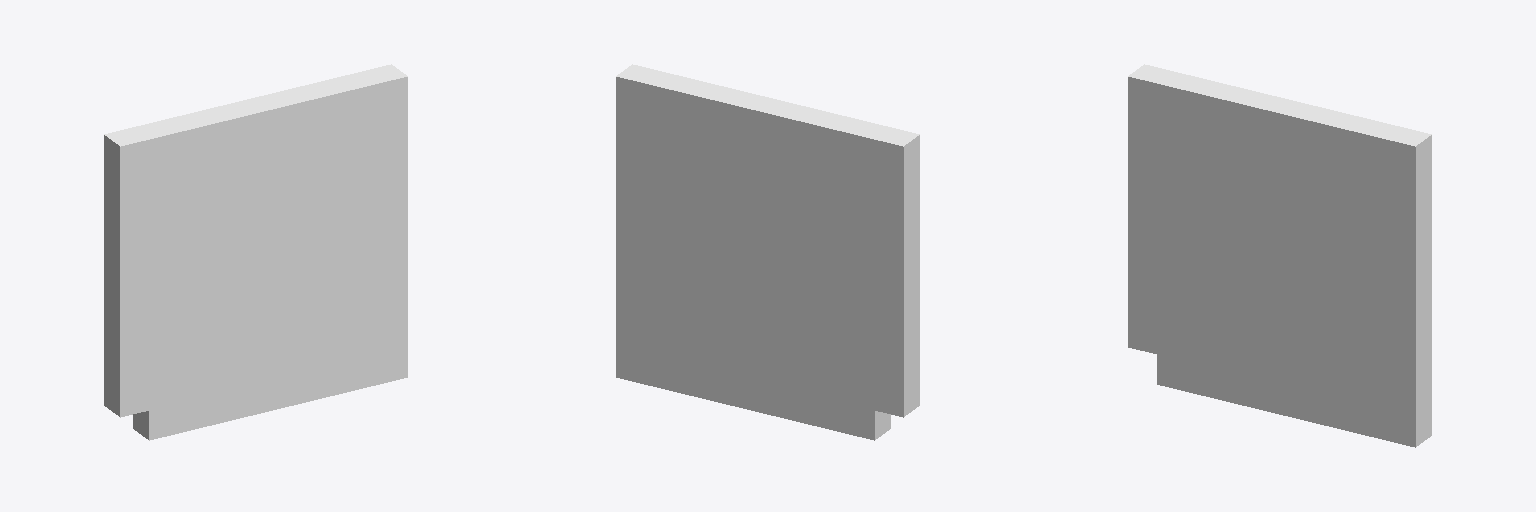
File: recipe.obj
3 renders of one model, left to right at view 1: azimuth 30°, elevation 25°; view 2: azimuth 150°, elevation 25°; view 3: azimuth 330°, elevation 25°, orthographic.
Visible parts, largest first — view 1: object 1; view 2: object 1; view 3: object 1.
Boxes of the visible parts, box(x1,y1,x2,y2) form: object 1: box(104, 64, 407, 440); object 1: box(616, 64, 919, 440); object 1: box(1128, 64, 1431, 447).
Size of the model in its own units: 1 by 1 by 0.1.